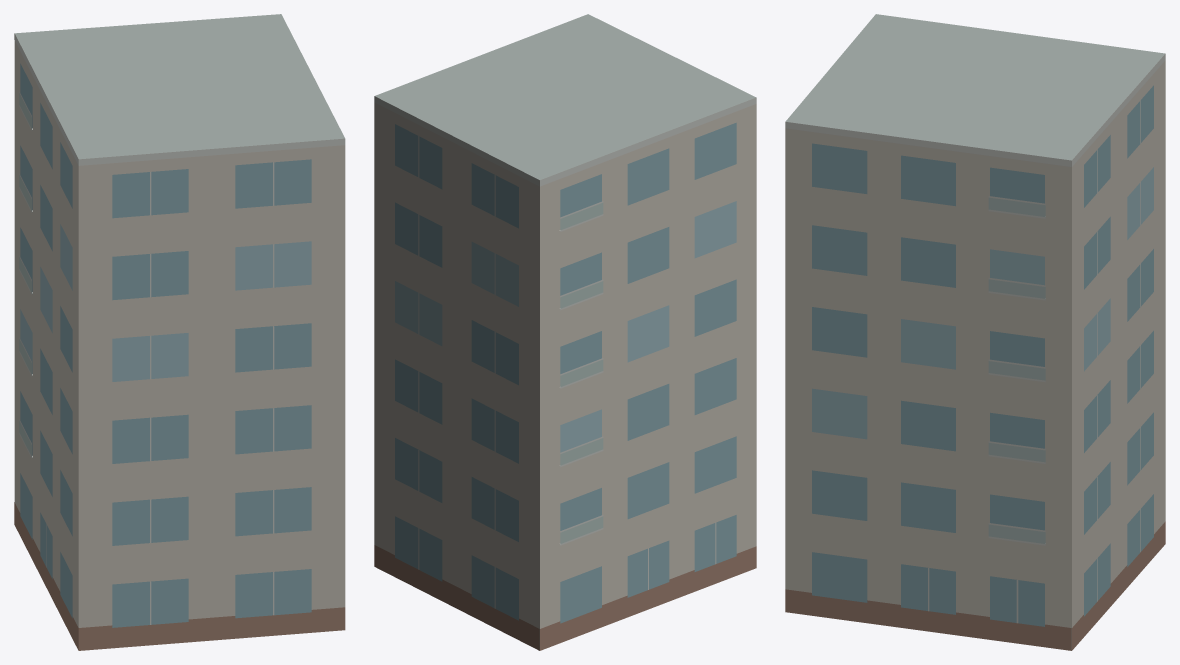
File: survey-upis-32869795.glb
3 views of the same model, side by side, from view 1: azimuth 30°, elevation 25°; view 2: azimuth 150°, elevation 25°; view 3: azimuth 270°, elevation 25° (orthographic). The views are drawn at different scales.
Parts seen in each view (by area): view 1: survey-upis-32869795.tmp; view 2: survey-upis-32869795.tmp; view 3: survey-upis-32869795.tmp.
Part boxes in pixels (x1=…): survey-upis-32869795.tmp: x1=14, y1=14, x2=345, y2=650; survey-upis-32869795.tmp: x1=374, y1=14, x2=756, y2=650; survey-upis-32869795.tmp: x1=785, y1=14, x2=1165, y2=650.
Bounding box in the file's own units: 11.74 × 18.3 × 12.87.
